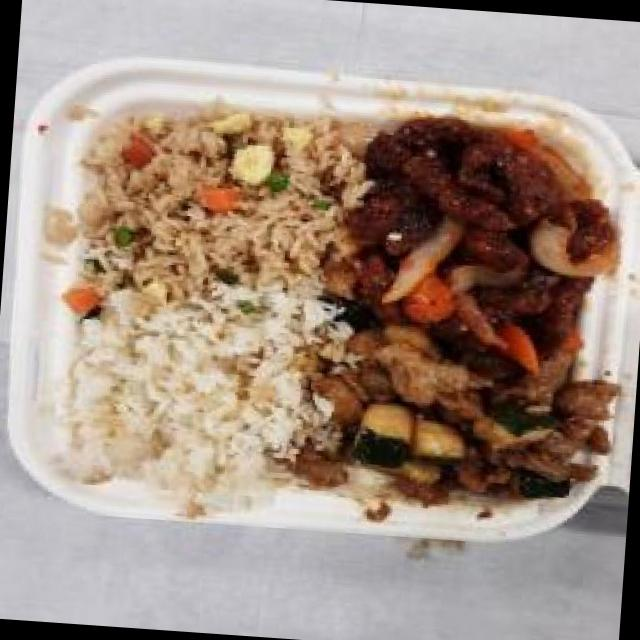Beijing Beef: (311, 100, 640, 359)
Fried Rice: (72, 98, 370, 340)
Kung Pao Chicken: (297, 314, 612, 518)
White Steamed Rice: (53, 307, 313, 502)
